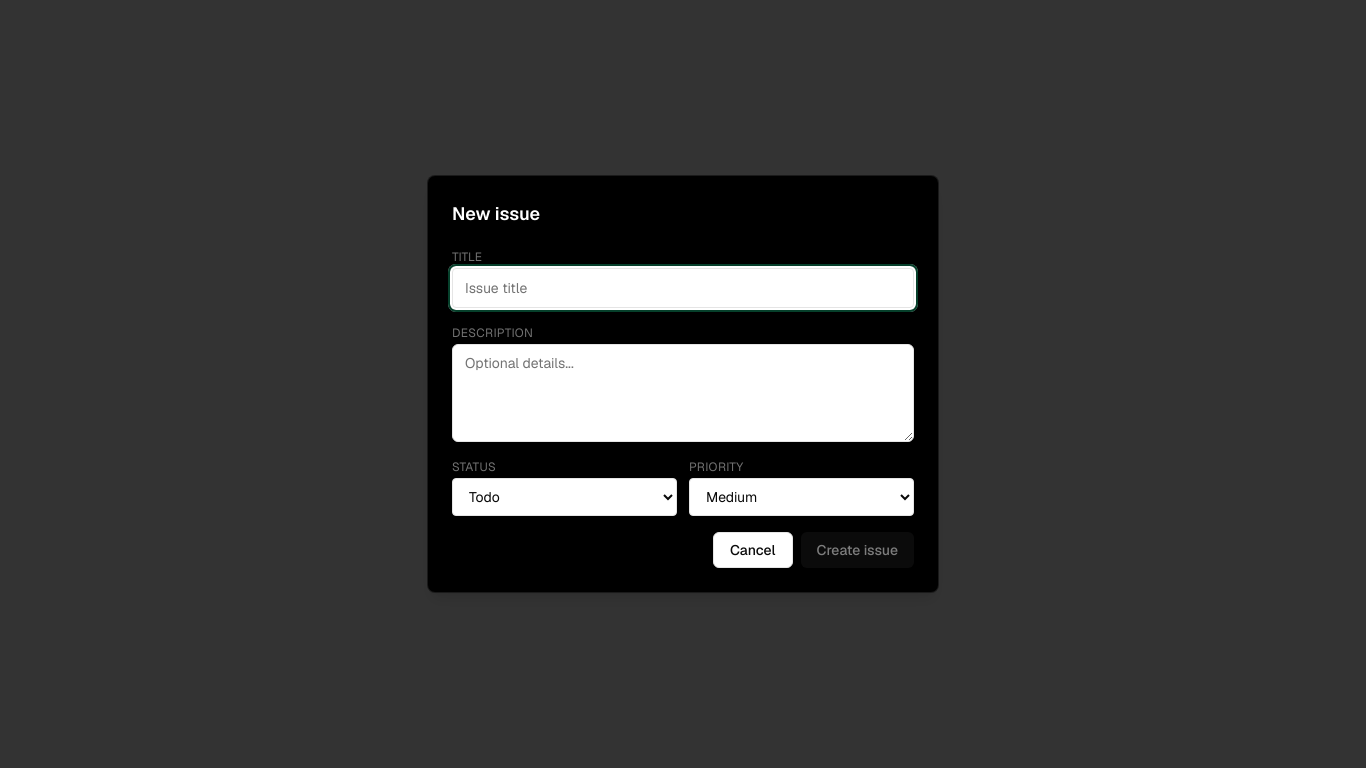
NewIssueDialog › error from create renders in alert
Type "Fix" into the field with placeholder "Issue title" at point(683, 288), box [452, 268, 914, 308]
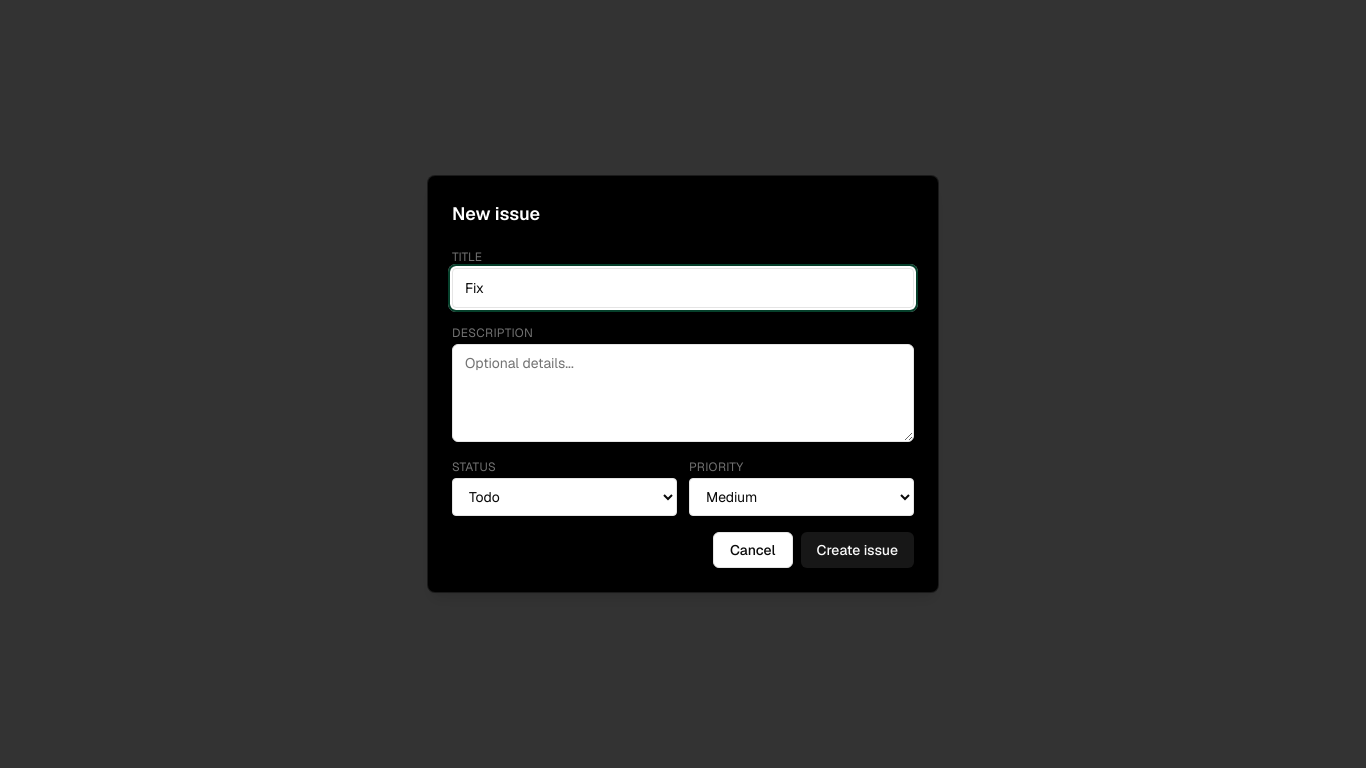
Click the button "Create issue" at point(857, 550), box [800, 532, 914, 568]
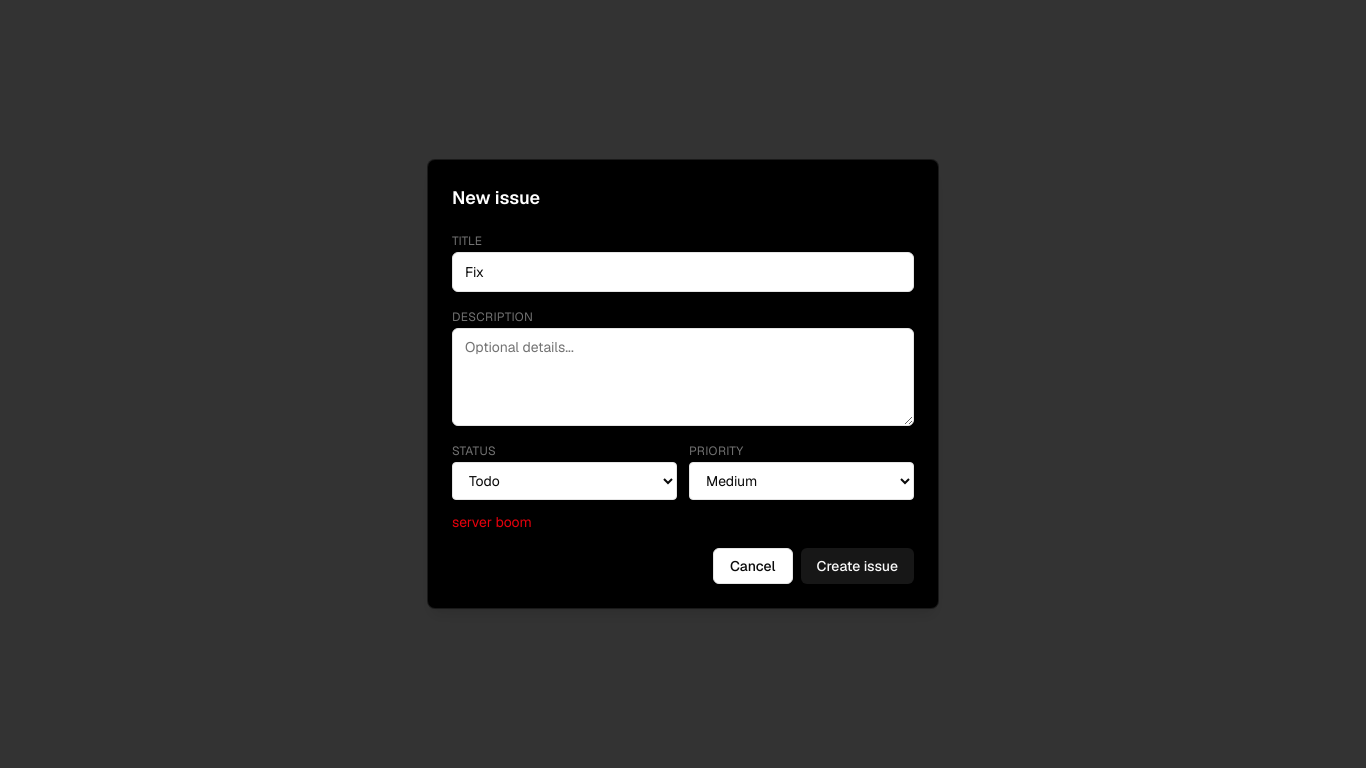
Expected: the message reads "server boom", [452, 513, 532, 531]
